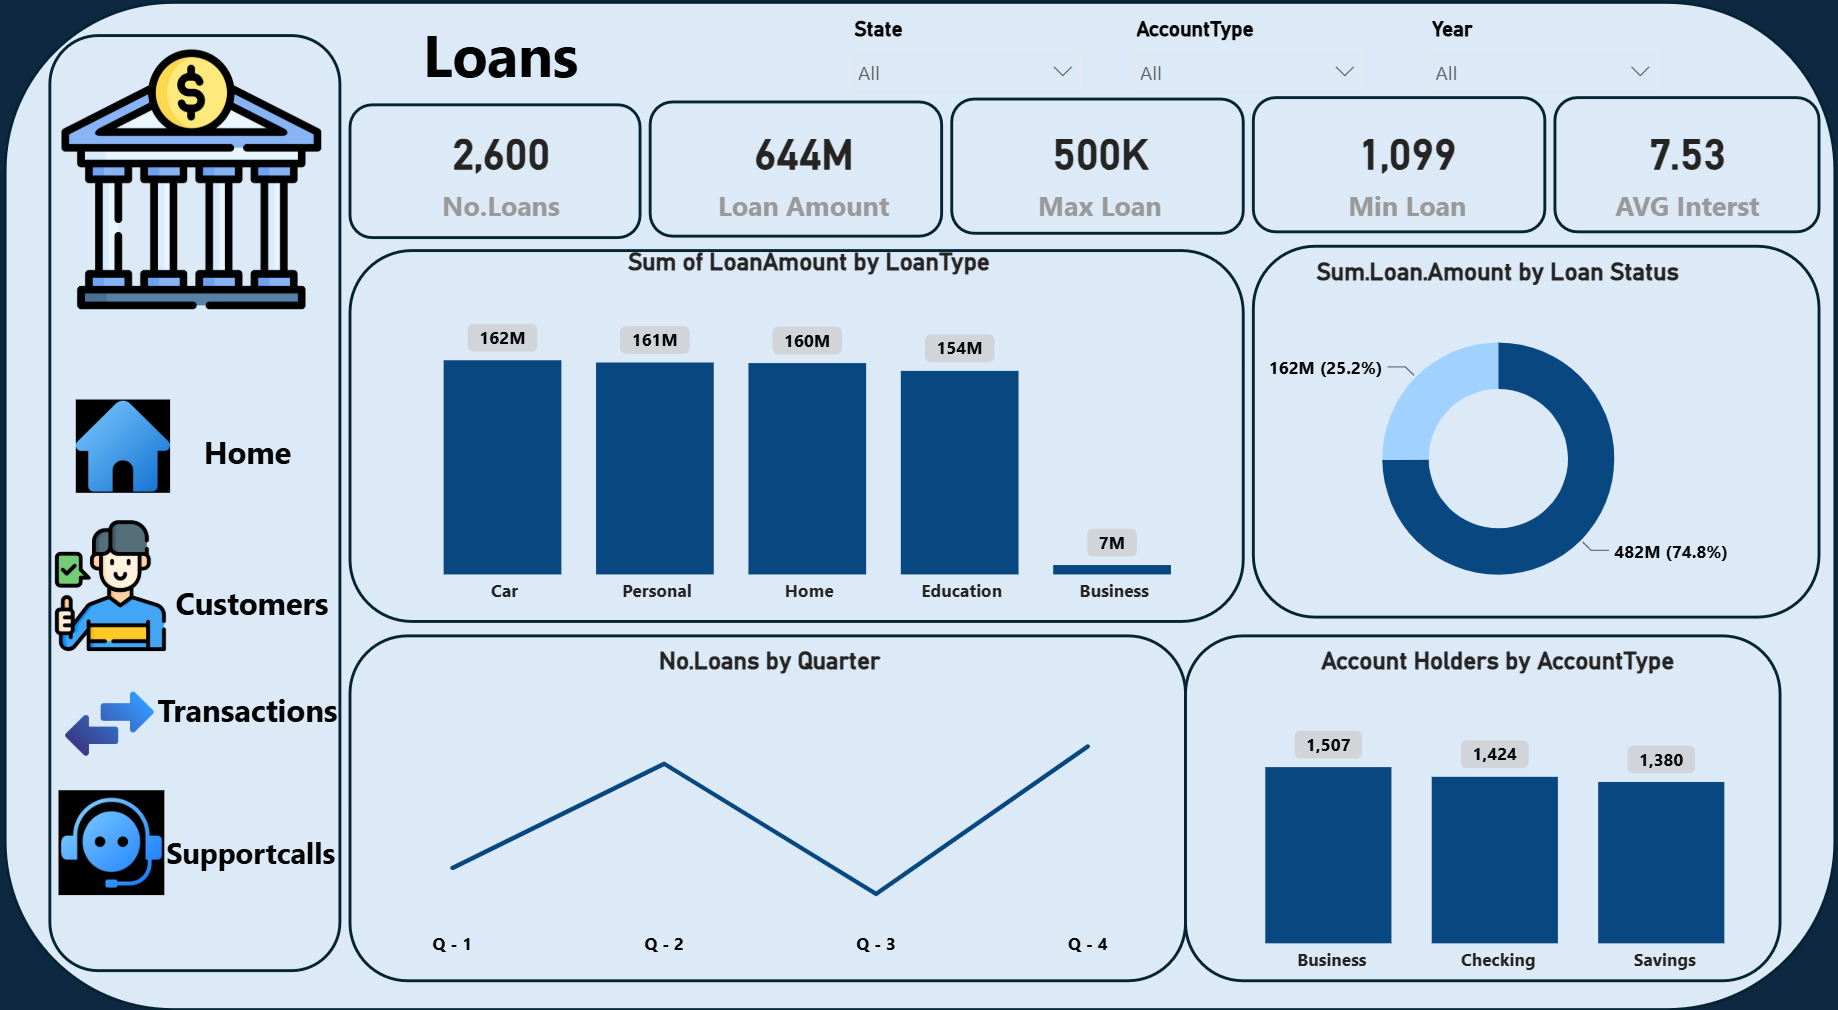

The page's visual inventory and layout, read from the dashboard file:
{"tool":"powerbi","page":{"name":"Loans","canvas":[1280,720],"ordinal":3},"visuals":[{"type":"card","fields":{"Values":["Loan Calculation.No.Loans"]},"box":[251.4,82.3,194.7,83.4],"z":0},{"type":"card","fields":{"Values":["Calculation Overview.Loan Amount"]},"box":[463.5,82.3,190,83.4],"z":1000},{"type":"card","fields":{"Values":["Loan Calculation.Max Loan"]},"box":[664,82.3,199.3,83.4],"z":2000},{"type":"card","fields":{"Values":["Loan Calculation.Min Loan"]},"box":[883,82.3,188.9,83.4],"z":3000},{"type":"card","fields":{"Values":["Loan Calculation.AVG Interst"]},"box":[1089.2,82.3,163.4,83.4],"z":4000},{"type":"lineClusteredColumnComboChart","fields":{"Category":["Loans.LoanType"],"Y":["Sum(Loans.LoanAmount)"]},"box":[261.9,177.3,601.4,257.2],"z":5000},{"type":"donutChart","title":"Sum.Loan.Amount by Loan Status","fields":{"Category":["Loans.Loan Status"],"Y":["Sum(Loans.LoanAmount)"]},"box":[827.3,185.4,425.3,249.1],"z":6000},{"type":"lineChart","fields":{"Y":["Loan Calculation.No.Loans"],"Category":["Calender.Quarter"]},"box":[251.4,454.2,567.8,224.8],"z":7000},{"type":"lineClusteredColumnComboChart","fields":{"Category":["Accounts.AccountType"],"Y":["Calculation Customer Service.Account Holders"]},"box":[827.3,454.2,425.3,236.4],"z":8000},{"type":"shape","box":[251.4,16.2,194.7,51],"z":9000},{"type":"image","box":[44.4,41,180,181.1],"z":10000},{"type":"image","box":[42.9,283.9,89.2,64.9],"z":11000},{"type":"shape","box":[107.8,297.8,130.9,44],"z":12000},{"type":"image","box":[33.6,362.7,90.4,99.7],"z":13000},{"type":"shape","box":[111.2,402.1,130.9,42.9],"z":14000},{"type":"image","box":[42.9,550.4,73,82.3],"z":15000},{"type":"shape","box":[108.9,575.9,133.3,44],"z":16000},{"type":"image","box":[33.6,476.2,89.2,64.9],"z":17000},{"type":"shape","box":[107.8,476.2,130.9,44],"z":18000},{"type":"slicer","fields":{"Values":["customers.State"]},"box":[581,13.7,180,59.2],"z":19000},{"type":"slicer","fields":{"Values":["Accounts.AccountType"]},"box":[776.9,13.7,180,59.2],"z":20000},{"type":"slicer","fields":{"Values":["Calender.Year"]},"box":[980.8,13.7,180,59.2],"z":21000}]}

Visuals, with their boxes in screenshot pixels (x1, y1, x2, y2), scaled from the page's 1280x720 canvas onto the 1838x1010 screenshot:
card - Loan Calculation.No.Loans: detection(361, 115, 641, 232)
card - Calculation Overview.Loan Amount: detection(666, 115, 938, 232)
card - Loan Calculation.Max Loan: detection(953, 115, 1240, 232)
card - Loan Calculation.Min Loan: detection(1268, 115, 1539, 232)
card - Loan Calculation.AVG Interst: detection(1564, 115, 1799, 232)
lineClusteredColumnComboChart - Loans.LoanType x Sum(Loans.LoanAmount): detection(376, 249, 1240, 610)
"Sum.Loan.Amount by Loan Status" donutChart: detection(1188, 260, 1799, 610)
lineChart - Loan Calculation.No.Loans x Calender.Quarter: detection(361, 637, 1176, 952)
lineClusteredColumnComboChart - Accounts.AccountType x Calculation Customer Service.Account Holders: detection(1188, 637, 1799, 969)
shape: detection(361, 23, 641, 94)
image: detection(64, 58, 322, 312)
image: detection(62, 398, 190, 489)
shape: detection(155, 418, 343, 479)
image: detection(48, 509, 178, 649)
shape: detection(160, 564, 348, 624)
image: detection(62, 772, 166, 888)
shape: detection(156, 808, 348, 870)
image: detection(48, 668, 176, 759)
shape: detection(155, 668, 343, 730)
slicer - customers.State: detection(834, 19, 1093, 102)
slicer - Accounts.AccountType: detection(1116, 19, 1374, 102)
slicer - Calender.Year: detection(1408, 19, 1667, 102)
